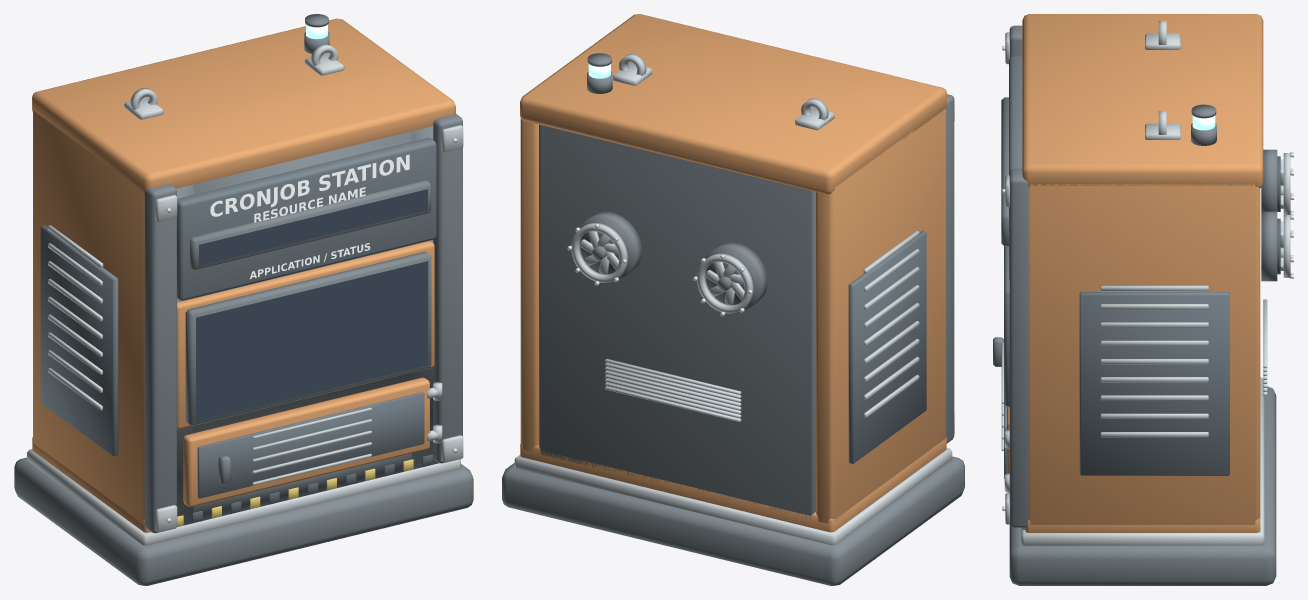
File: cronjob_station_ultra.glb
The picture shows the model from 3 angles, left to right: view 1: azimuth 30°, elevation 25°; view 2: azimuth 150°, elevation 25°; view 3: azimuth 270°, elevation 25°; orthographic projection. The views are drawn at different scales.
Visible parts, largest first — view 1: Roof_orange, LiveViewSurface_glass, SideWall_orange, Skid_frame, CornerPost_frame, FrontHeader_graphite, SideServicePanel_graphite, DoorMoving_Inset_graphite, DoorMoving_Panel_orange, SkidDeck_steel, LiveViewSurfaceFrame_frame, ResourceNameSurface_glass (+15 smaller); view 2: BackWall_frame, Roof_orange, SideWall_orange, Skid_frame, SideServicePanel_graphite, SkidDeck_steel, KickPlate_orange, RearFan_steel, RearVent_steel, SideLouver_steel, CornerPost_frame, RearFan_frame (+3 smaller); view 3: SideWall_orange, Roof_orange, SideServicePanel_graphite, Skid_frame, CornerPost_frame, SideLouver_steel, SkidDeck_steel, RearFan_frame, KickPlate_orange, FrontHeader_graphite, RearFan_steel, ResourceNameSurfaceFrame_frame (+7 smaller).
Part boxes in pixels (x1,y1,x2,y2): Roof_orange: (32,18,455,194); LiveViewSurface_glass: (196,261,428,421); SideWall_orange: (33,110,144,523); Skid_frame: (14,457,473,585); CornerPost_frame: (144,114,462,533); FrontHeader_graphite: (177,137,436,300); SideServicePanel_graphite: (40,225,118,456); DoorMoving_Inset_graphite: (197,392,424,498); DoorMoving_Panel_orange: (183,377,429,506); SkidDeck_steel: (27,449,460,545); LiveViewSurfaceFrame_frame: (185,251,431,425); ResourceNameSurface_glass: (199,189,427,265); BackWall_frame: (539,124,815,518); Roof_orange: (520,14,946,194); SideWall_orange: (520,109,945,523); Skid_frame: (502,456,964,585); SideServicePanel_graphite: (848,230,926,463); SkidDeck_steel: (514,447,952,545); KickPlate_orange: (520,437,946,532); RearFan_steel: (571,222,753,313); RearVent_steel: (605,359,741,422); SideLouver_steel: (863,231,919,417); CornerPost_frame: (946,94,954,443); RearFan_frame: (579,211,767,311); SideWall_orange: (1028,184,1260,524); Roof_orange: (1022,14,1263,188); SideServicePanel_graphite: (1079,292,1229,475); Skid_frame: (1009,386,1276,585); CornerPost_frame: (1009,25,1028,527); SideLouver_steel: (1100,285,1208,437); SkidDeck_steel: (1021,377,1264,545); RearFan_frame: (1261,149,1277,281); KickPlate_orange: (1025,518,1260,532); FrontHeader_graphite: (1009,56,1022,279); RearFan_steel: (1280,153,1290,277); ResourceNameSurfaceFrame_frame: (1001,97,1008,246).
Bounding box in the file's own units: 2 × 2.48 × 1.51.
